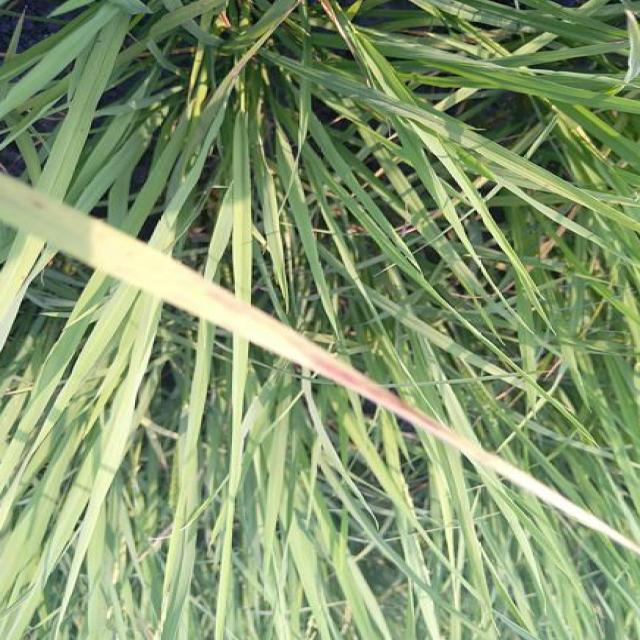Leaf Blight: (207, 282, 457, 448), (26, 189, 47, 212)
